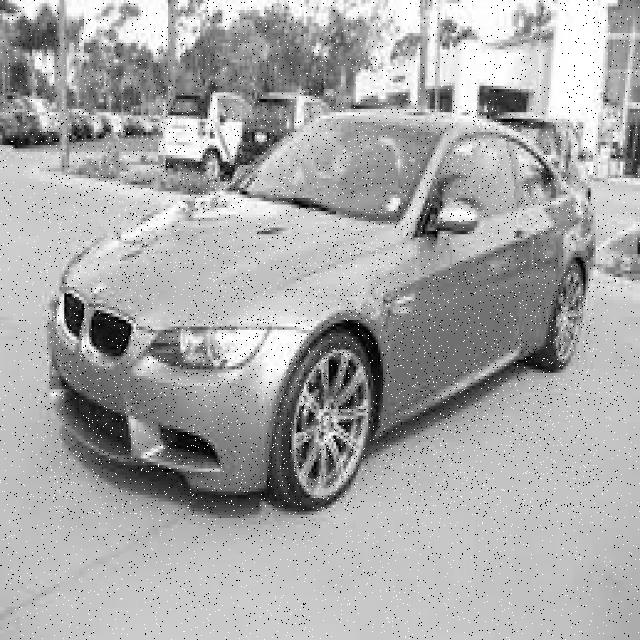Sedan: (45, 108, 595, 515)
